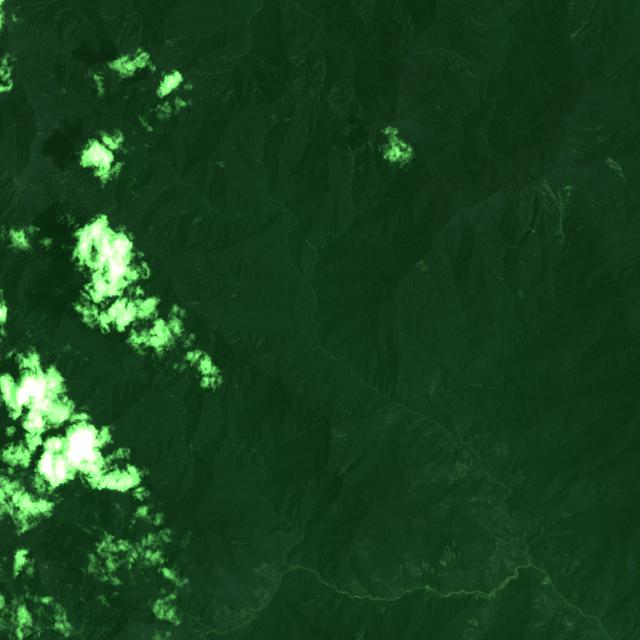landslides: (567, 0, 598, 42), (578, 174, 597, 205), (543, 181, 561, 210), (311, 59, 326, 71), (467, 70, 483, 80), (607, 157, 621, 168), (414, 260, 428, 271), (470, 15, 484, 26), (540, 575, 551, 586)
